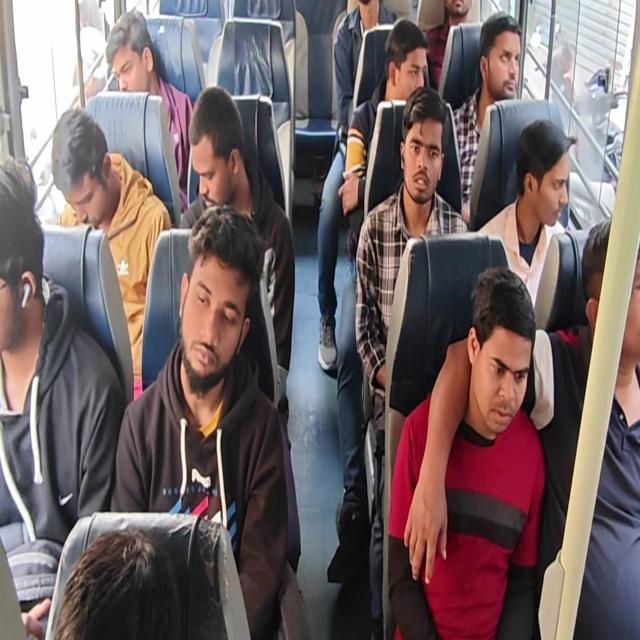person: (1, 1, 638, 638), (416, 217, 640, 638), (110, 203, 291, 638), (354, 86, 469, 636), (0, 155, 126, 638), (324, 11, 431, 574), (387, 266, 546, 638), (538, 217, 640, 639), (178, 85, 296, 437), (51, 107, 172, 400), (316, 1, 398, 372), (338, 18, 430, 276), (476, 117, 576, 310), (104, 8, 197, 211), (452, 11, 522, 224), (53, 527, 181, 639), (332, 0, 397, 155), (423, 0, 473, 91)
